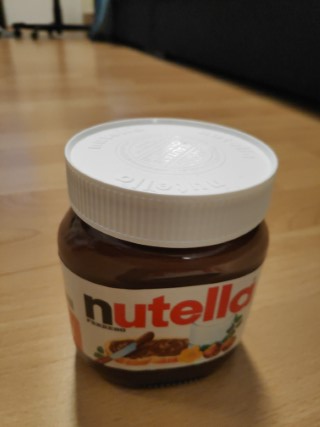nutella: (55, 115, 279, 391)
